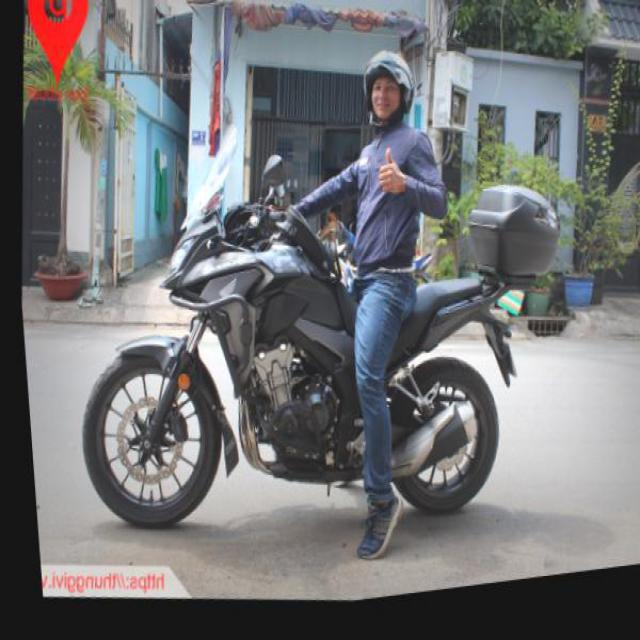CB500X: (52, 157, 514, 585)
